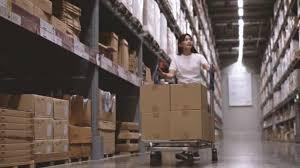Boxes: (170, 85, 203, 111), (140, 85, 171, 112), (172, 112, 202, 139), (141, 114, 170, 140)
